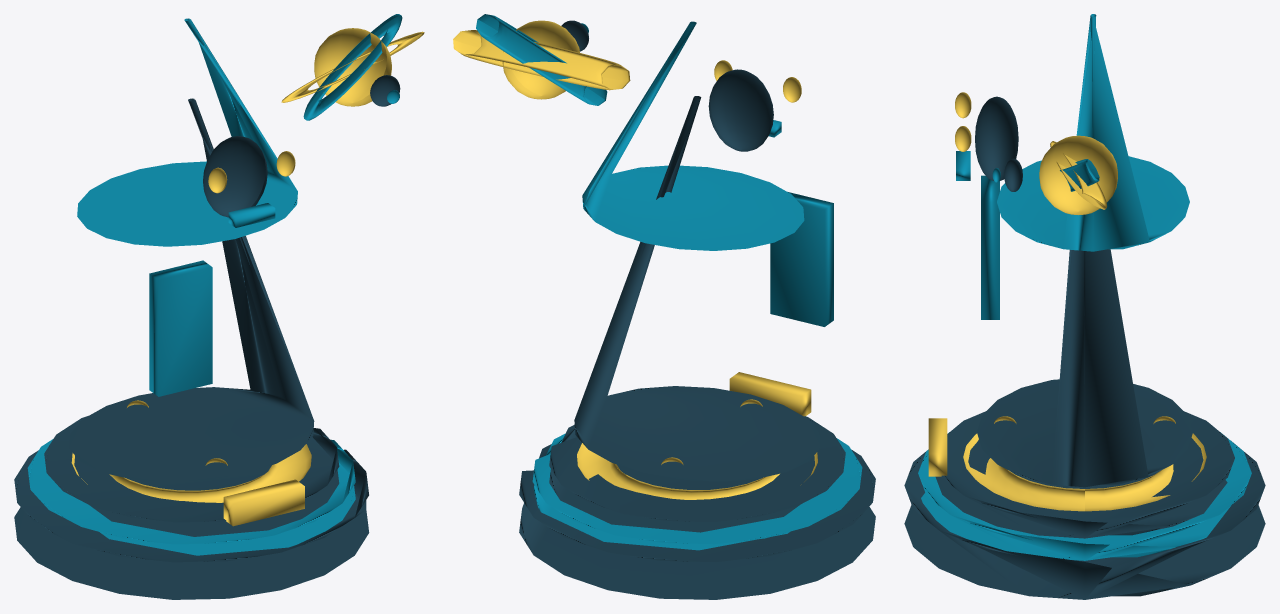
Rendered from wandering_eye.glb.
3 renders of one model, left to right at view 1: azimuth 30°, elevation 25°; view 2: azimuth 150°, elevation 25°; view 3: azimuth 270°, elevation 25°, orthographic.
Parts seen in each view (by area): view 1: wandering_eye_#1D4051, wandering_eye_#0891B2, wandering_eye_#FCD34D; view 2: wandering_eye_#1D4051, wandering_eye_#0891B2, wandering_eye_#FCD34D; view 3: wandering_eye_#1D4051, wandering_eye_#0891B2, wandering_eye_#FCD34D.
Part boxes in pixels (x1,y1,x2,y2): wandering_eye_#1D4051: (14, 75, 400, 599); wandering_eye_#0891B2: (27, 14, 402, 555); wandering_eye_#FCD34D: (71, 28, 424, 526); wandering_eye_#1D4051: (519, 20, 875, 599); wandering_eye_#0891B2: (476, 14, 862, 550); wandering_eye_#FCD34D: (453, 20, 817, 499); wandering_eye_#1D4051: (904, 96, 1265, 599); wandering_eye_#0891B2: (918, 14, 1251, 560); wandering_eye_#FCD34D: (928, 92, 1206, 511).
Size of the model in its own units: 2.18 by 2.67 by 1.72.
